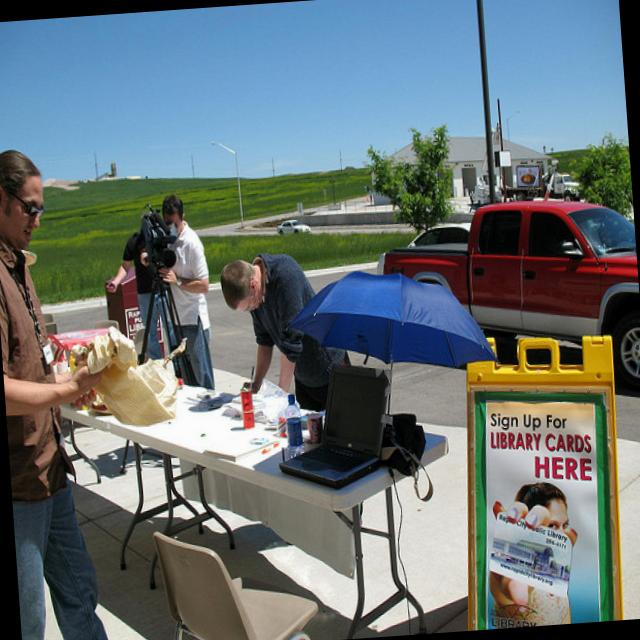Vehicle: (371, 192, 640, 418), (504, 154, 581, 207), (406, 221, 471, 252), (276, 218, 311, 235)
